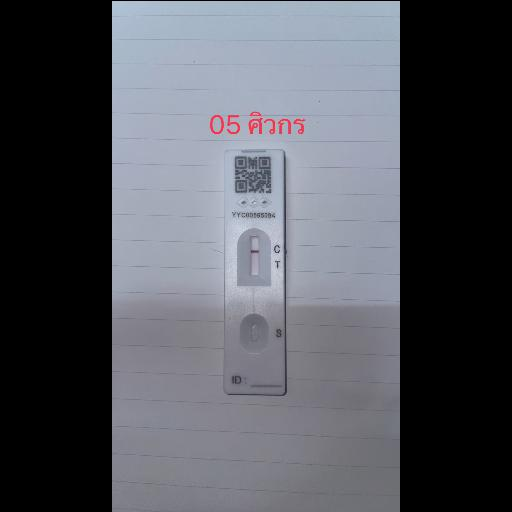Neg: (224, 150, 286, 396)
